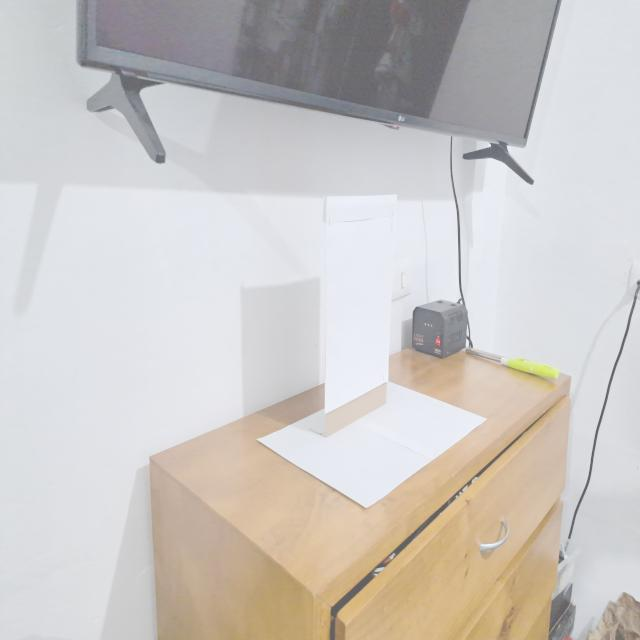wall: (324, 192, 394, 436)
